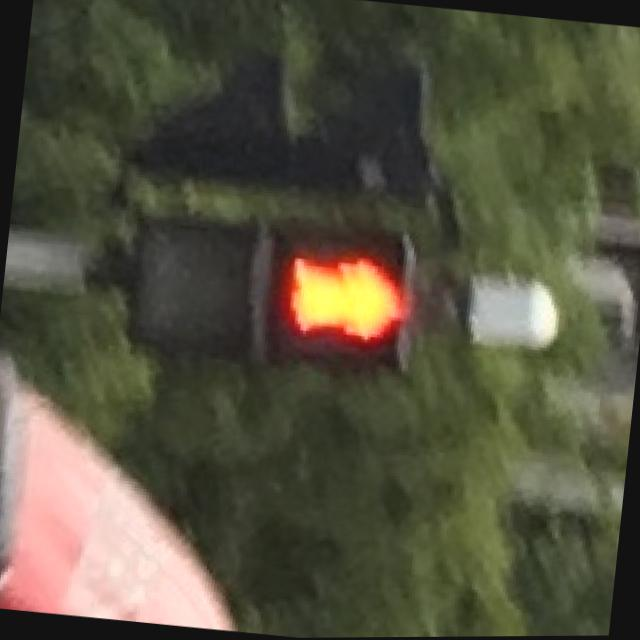red_light: (278, 241, 415, 357)
